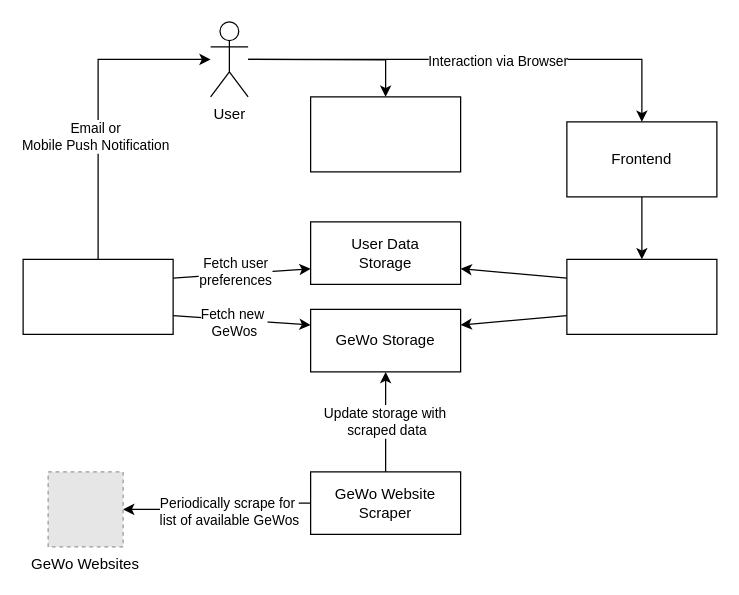
This 739x595 diagram has some shape labels left out. Grey dashed boxes stand in for pictures. The centre of each missing label's shape, as x and y in pixels:
"API Gateway" goes at [641,296].
"Auth Provider" goes at [385,134].
"User Notification Generator" goes at [97,296].
